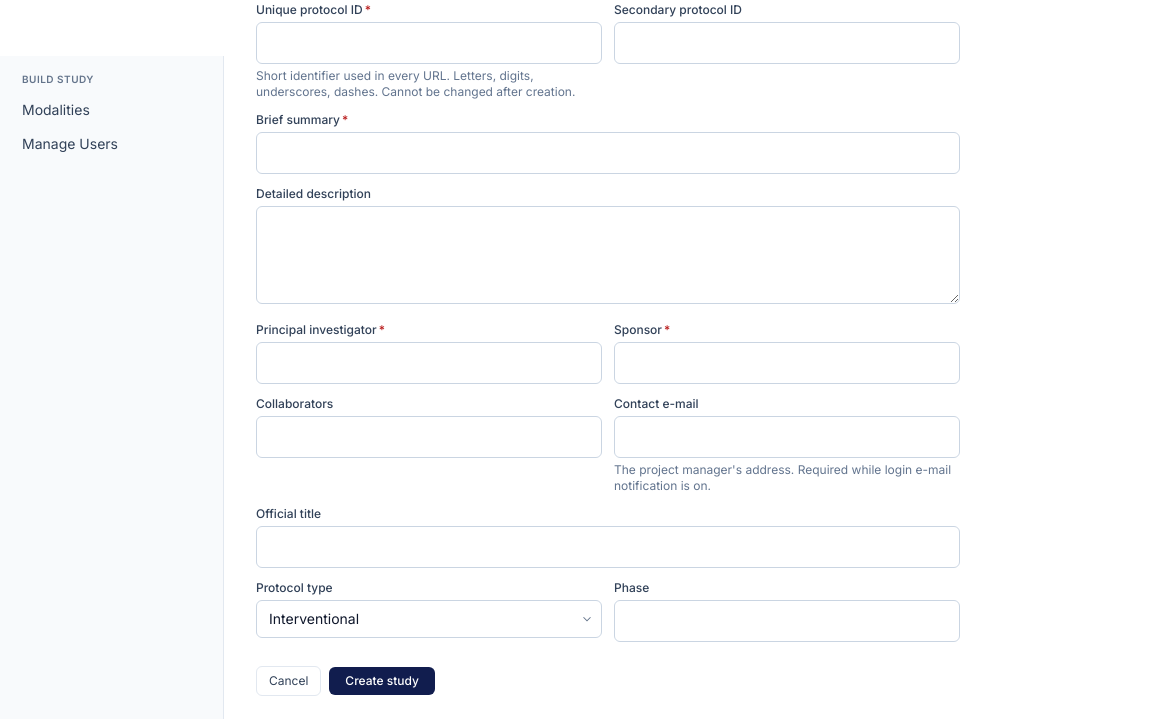
Test: CreateStudyView — pre-submit validation › blocks submit and shows errors when required fields are blank
(page scrolled)
Step 1. Click the button "Create study" → (382, 681), box [329,667,435,695]
(page scrolled)
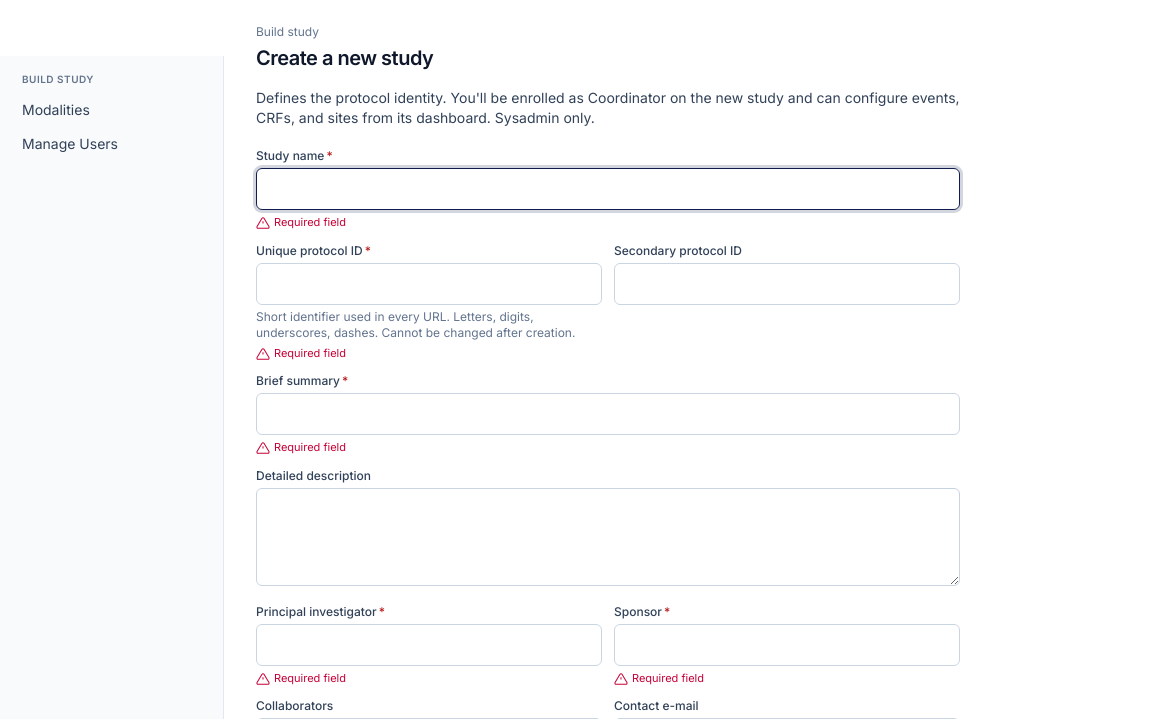
Expected: the text "Required field" is shown, [274,214,346,230]
